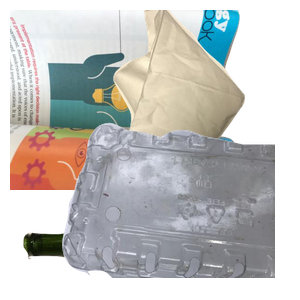glass: (21, 201, 261, 300)
paper: (10, 10, 250, 190)
plastic: (60, 120, 300, 300)
trash: (111, 10, 300, 190)
